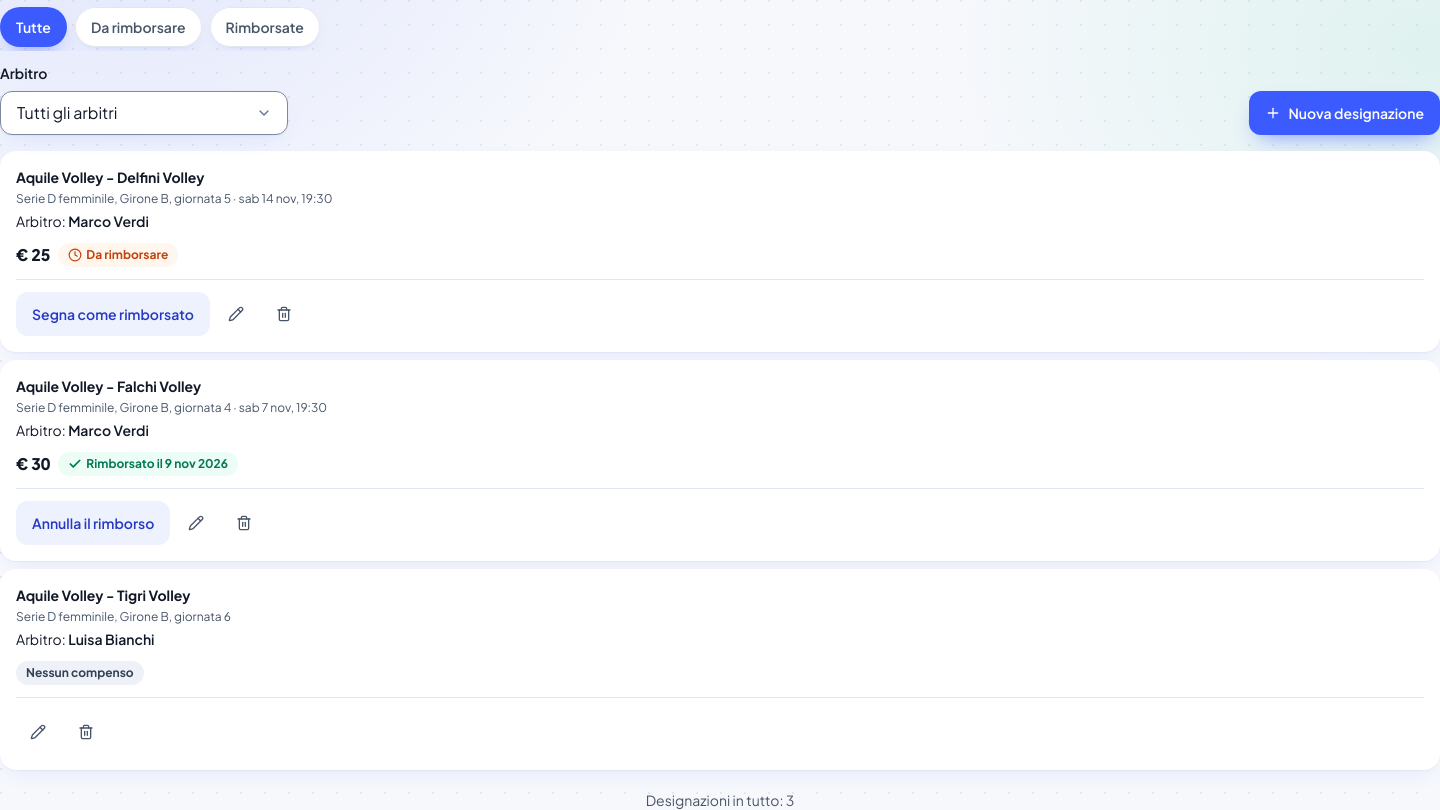
Test: ArbitriPage designations › deletes a designation after confirmation
(page scrolled)
Click the button named "Elimina la designazione".
click(86, 732)  # box [64,710,108,754]
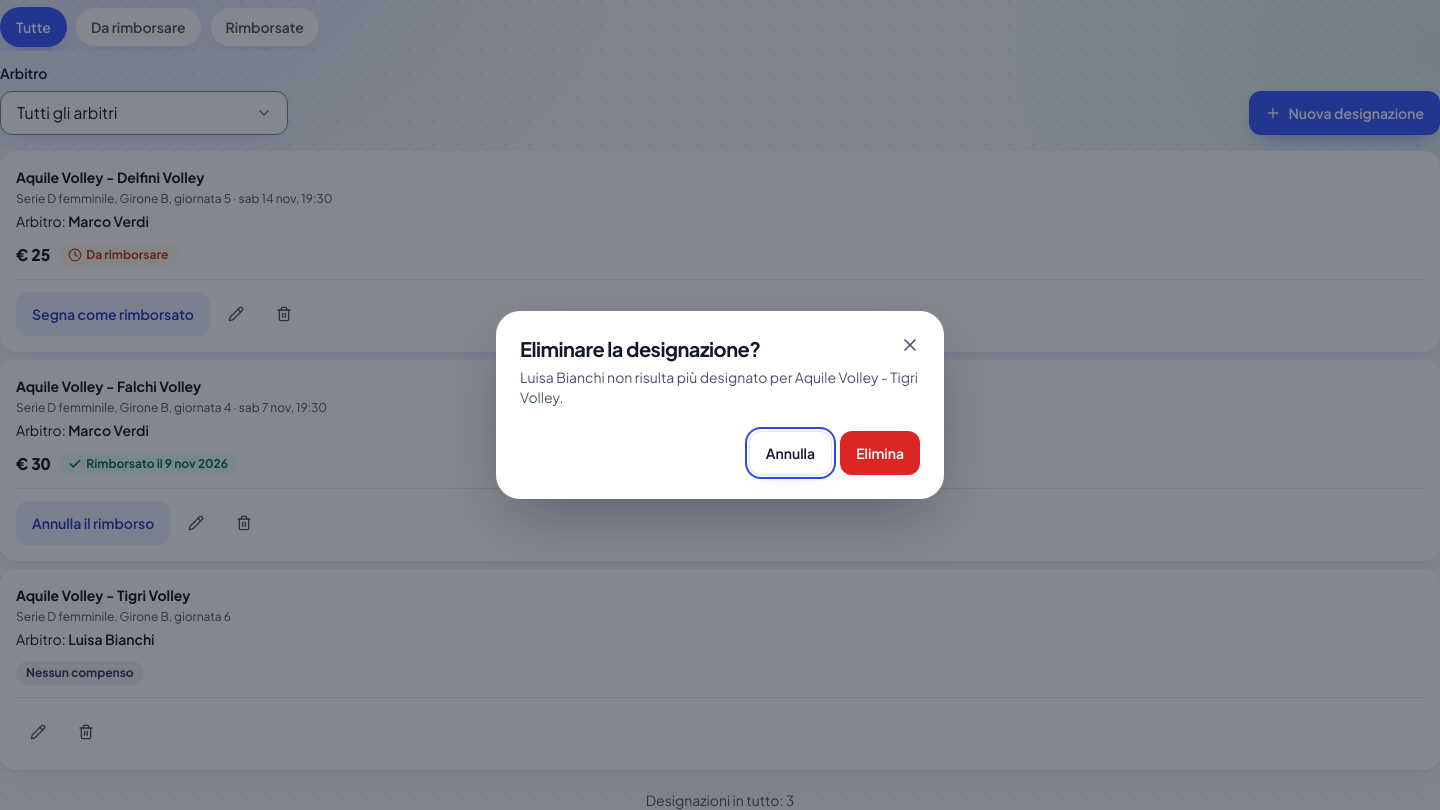
Click the button "Elimina".
click(880, 453)  # box [840,431,920,475]
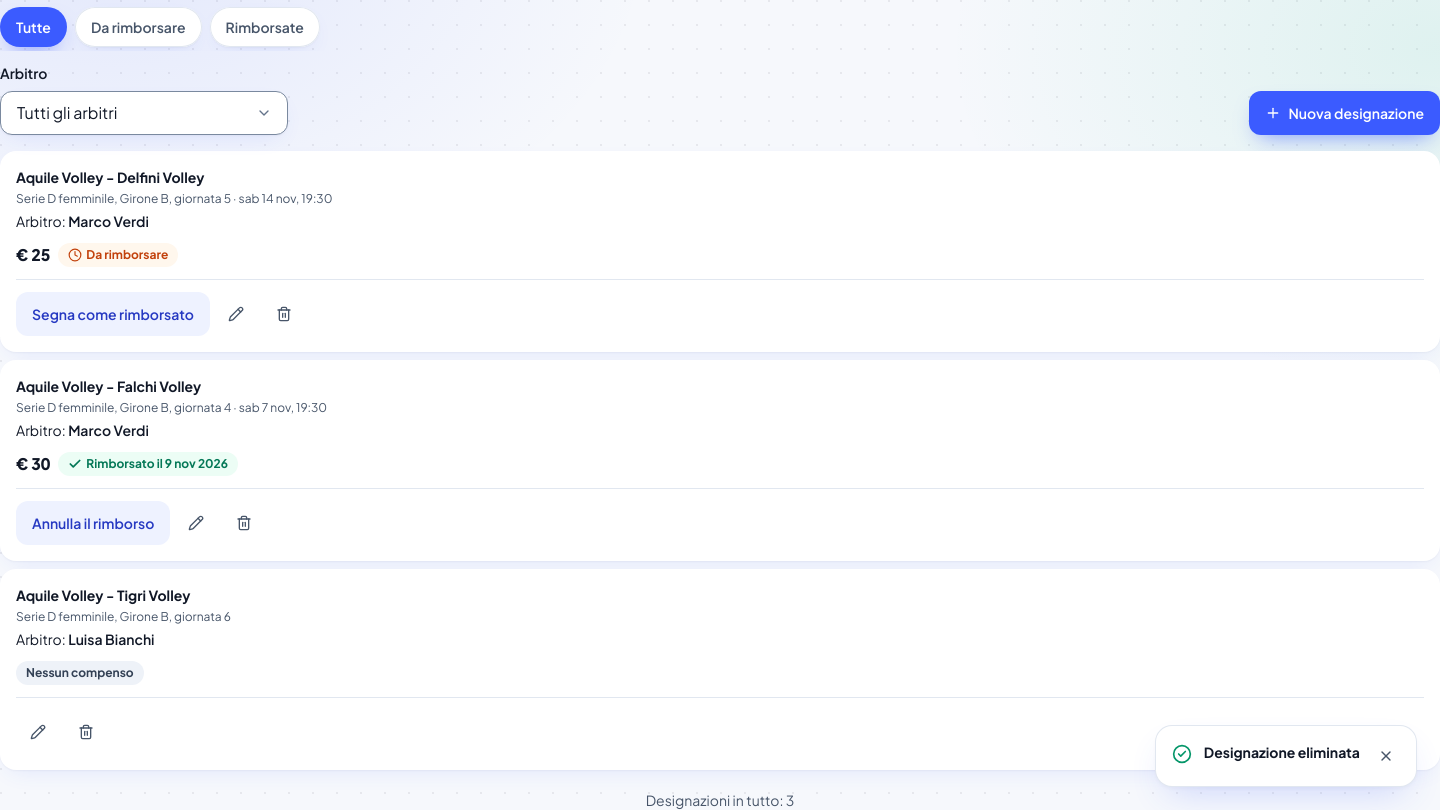
Result: the text "Designazione eliminata" is shown at [1204,742,1360,762]
